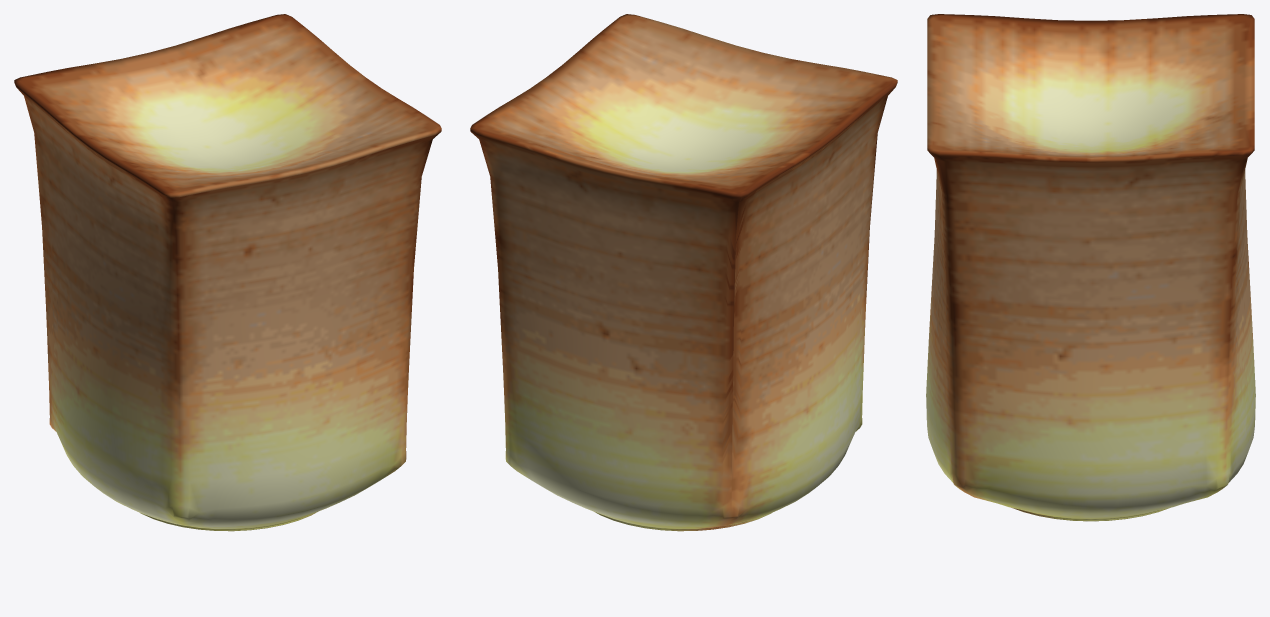
File: LANTERN.gltf
The picture shows the model from 3 angles, left to right: view 1: azimuth 30°, elevation 25°; view 2: azimuth 150°, elevation 25°; view 3: azimuth 270°, elevation 25°; orthographic projection. The views are drawn at different scales.
Parts seen in each view (by area): view 1: Latern_Paper; view 2: Latern_Paper; view 3: Latern_Paper.
Part boxes in pixels (<box>): Latern_Paper: <box>14,14,441,531</box>; Latern_Paper: <box>470,14,897,531</box>; Latern_Paper: <box>926,14,1255,521</box>.
Size of the model in its own units: 0.5474 by 0.8447 by 0.5474.
Materials: 4 (3 with a texture image).
